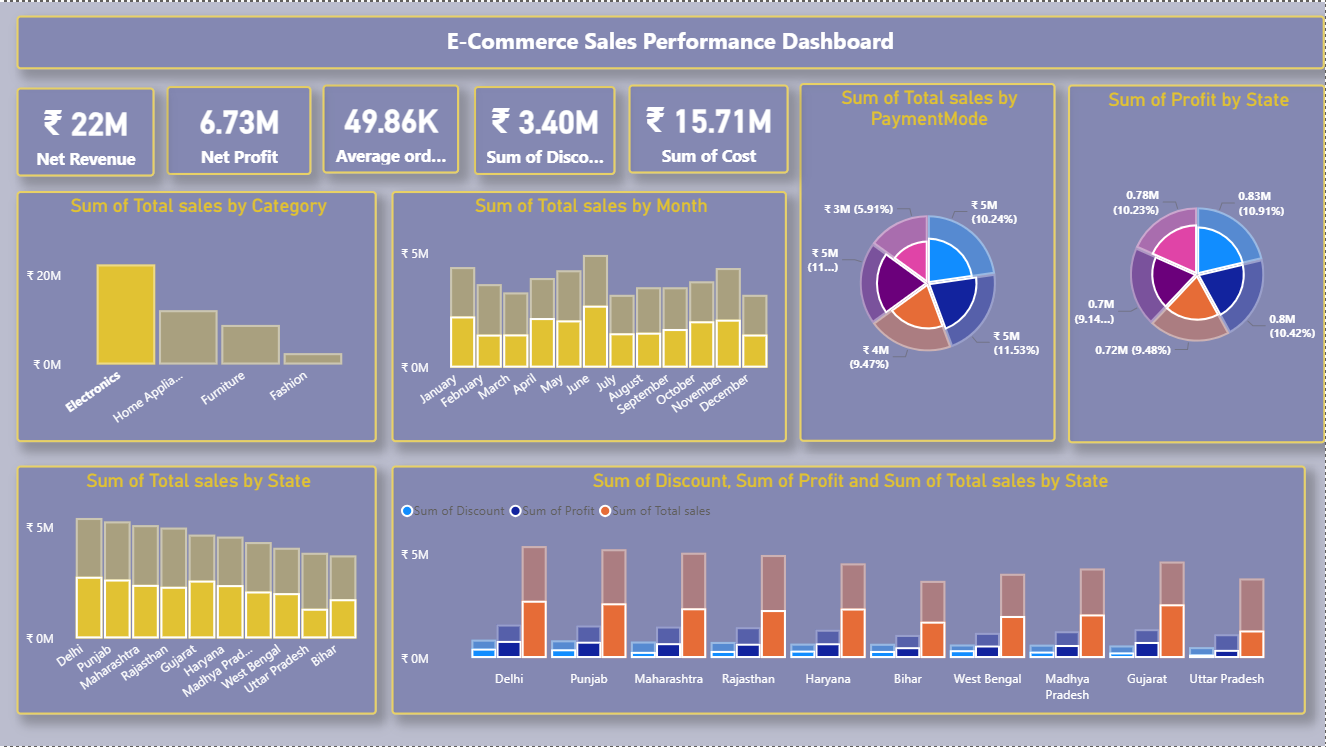

This screenshot's page, from the dashboard's own definition file:
{"tool":"powerbi","page":{"name":"Page 1","canvas":[1280,720],"ordinal":0},"visuals":[{"type":"card","fields":{"Values":["Sum(sales.Discount)"]},"box":[458.7,81.3,136.6,86.2],"z":0},{"type":"card","fields":{"Values":["sales.Net Profit"]},"box":[161,81.3,139.9,86.2],"z":1000},{"type":"card","fields":{"Values":["sales.Average order Value"]},"box":[312.3,79.7,131.8,86.2],"z":2000},{"type":"card","fields":{"Values":["sales.Net Revenue"]},"box":[16.3,83,133.4,86.2],"z":3000},{"type":"clusteredColumnChart","fields":{"Category":["sales.Category"],"Y":["Sum(sales.Total sales)"]},"box":[16.3,182.2,348.1,242.4],"z":4000},{"type":"clusteredColumnChart","fields":{"Y":["Sum(sales.Total sales)"],"Category":["sales.OrderDate.Variation.Date Hierarchy.Month"]},"box":[379,182.2,382.2,242.4],"z":5000},{"type":"clusteredColumnChart","fields":{"Category":["sales.State"],"Y":["Sum(sales.Total sales)"]},"box":[16.3,447.3,348.1,240.7],"z":6000},{"type":"textbox","box":[16.3,13,1263.8,52],"z":7000},{"type":"pieChart","fields":{"Category":["sales.PaymentMode"],"Y":["Sum(sales.Total sales)"]},"box":[772.6,78.1,247.2,346.5],"z":8000},{"type":"card","fields":{"Values":["Sum(sales.Cost)"]},"box":[606.7,79.7,154.5,86.2],"z":9000},{"type":"clusteredColumnChart","fields":{"Category":["sales.State"],"Y":["Sum(sales.Discount)","Sum(sales.Profit)","Sum(sales.Total sales)"]},"box":[379,447.3,883.2,240.7],"z":10000},{"type":"pieChart","fields":{"Category":["sales.State"],"Y":["Sum(sales.Profit)"]},"box":[1031.2,79.7,248.9,346.5],"z":11000}]}

Visuals, with their boxes in screenshot pixels (x1, y1, x2, y2), scaled from the page's 1280x720 canvas onto the 1326x747 screenshot:
card - Sum(sales.Discount): 475/84/617/174
card - sales.Net Profit: 167/84/312/174
card - sales.Average order Value: 324/83/460/172
card - sales.Net Revenue: 17/86/155/176
clusteredColumnChart - sales.Category x Sum(sales.Total sales): 17/189/377/441
clusteredColumnChart - Sum(sales.Total sales) x sales.OrderDate.Variation.Date Hierarchy.Month: 393/189/789/441
clusteredColumnChart - sales.State x Sum(sales.Total sales): 17/464/377/714
textbox: 17/13/1325/67
pieChart - sales.PaymentMode x Sum(sales.Total sales): 800/81/1056/441
card - Sum(sales.Cost): 629/83/789/172
clusteredColumnChart - sales.State x Sum(sales.Discount): 393/464/1308/714
pieChart - sales.State x Sum(sales.Profit): 1068/83/1325/442
